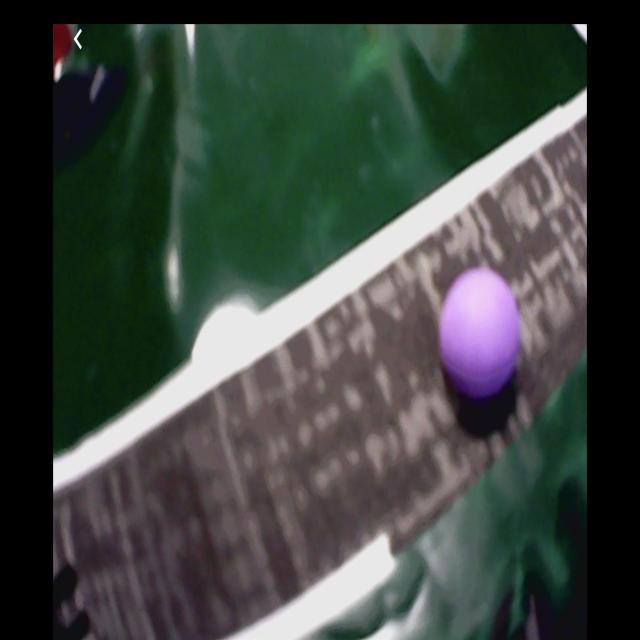ball: (439, 270, 519, 398)
